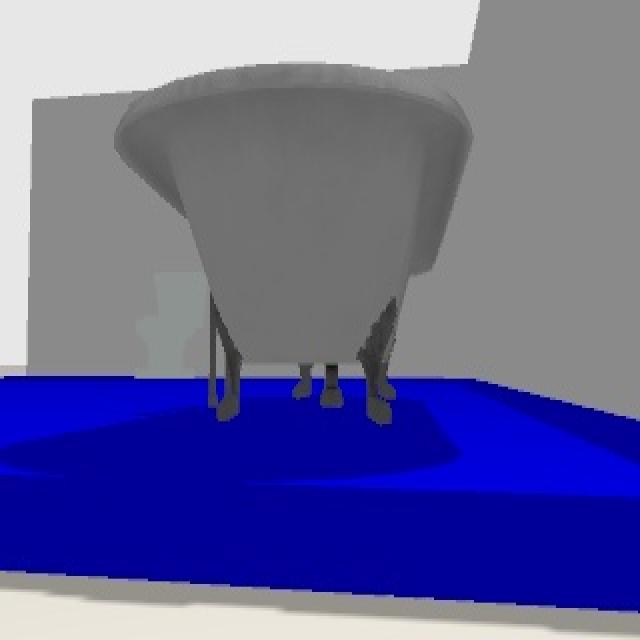bathtub: (112, 69, 476, 427)
